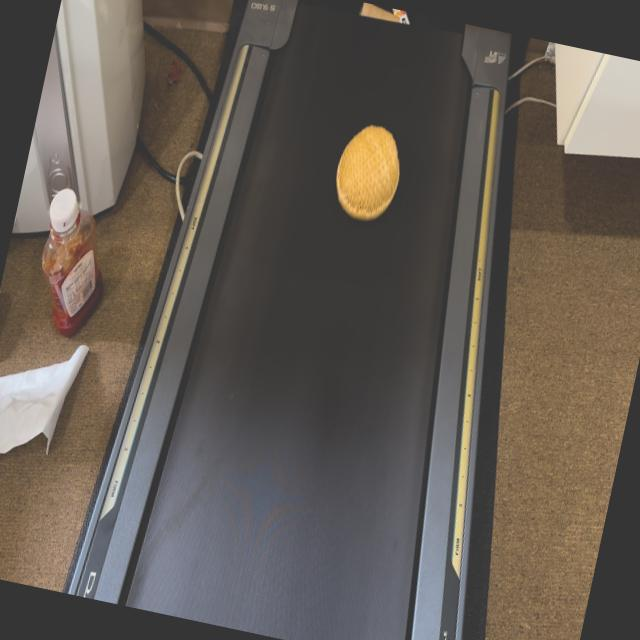Trash: (321, 115, 429, 237), (349, 0, 431, 29)
